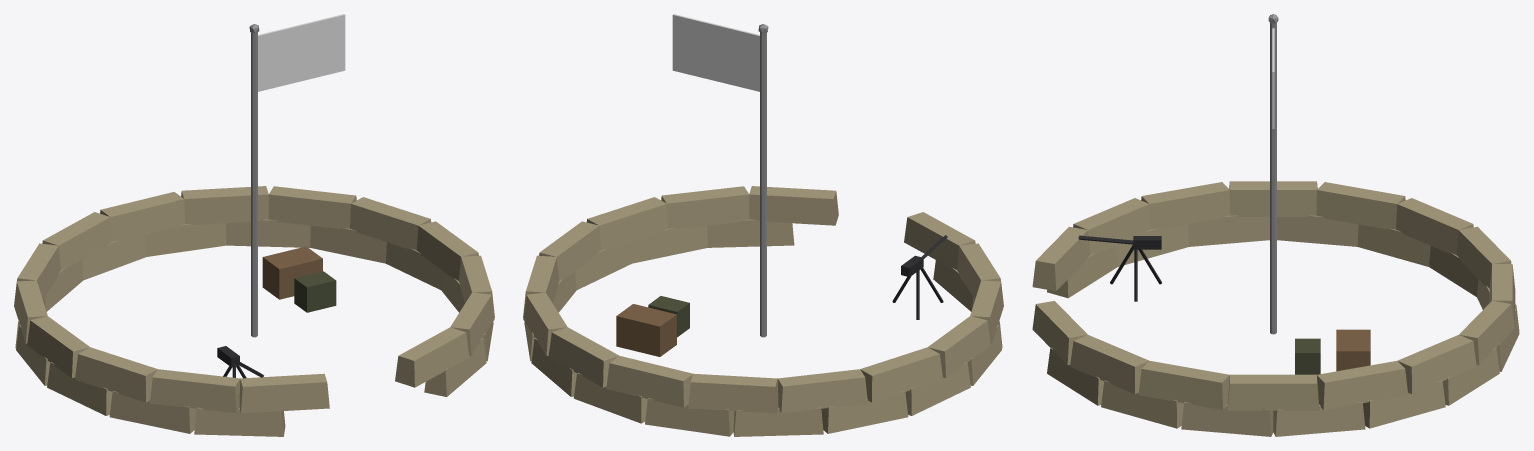
File: strongpoint.glb
The picture shows the model from 3 angles, left to right: view 1: azimuth 30°, elevation 25°; view 2: azimuth 150°, elevation 25°; view 3: azimuth 270°, elevation 25°; orthographic projection. The views are drawn at different scales.
Parts seen in each view (by area): view 1: Body, Flag; view 2: Body, Flag; view 3: Body.
Boxes of the visible parts, left/top/right/bottom form: Body: left=14, top=24, right=494, bottom=436; Flag: left=258, top=14, right=345, bottom=91; Body: left=523, top=24, right=1003, bottom=436; Flag: left=672, top=14, right=759, bottom=91; Body: left=1032, top=14, right=1519, bottom=436.
Size of the model in its own units: 8.6 by 6.16 by 8.51.
